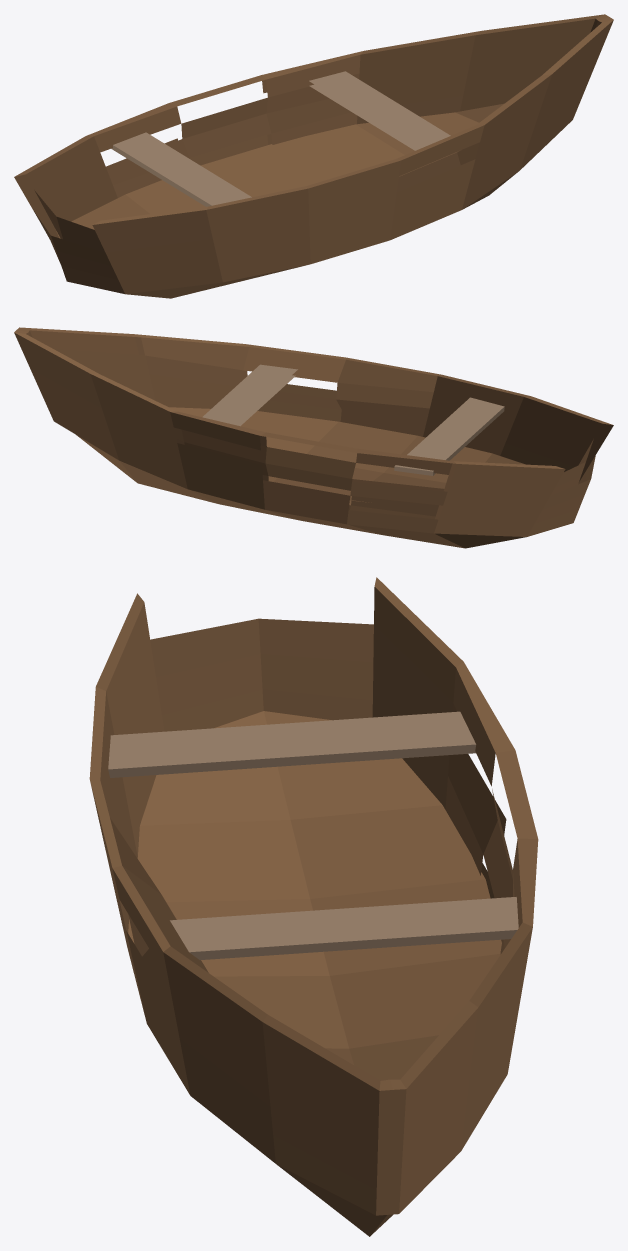
The model's file is 03 Boat.FBX.
3 views of the same model, one above another, from view 1: azimuth 30°, elevation 25°; view 2: azimuth 150°, elevation 25°; view 3: azimuth 270°, elevation 25° (orthographic). The views are drawn at different scales.
Parts seen in each view (by area): view 1: Boat; view 2: Boat; view 3: Boat.
Boxes of the visible parts, x1=… form: Boat: x1=14, y1=14, x2=613, y2=298; Boat: x1=14, y1=327, x2=613, y2=548; Boat: x1=89, y1=577, x2=538, y2=1236.
Bounding box in the file's own units: 2234 × 535 × 796.
